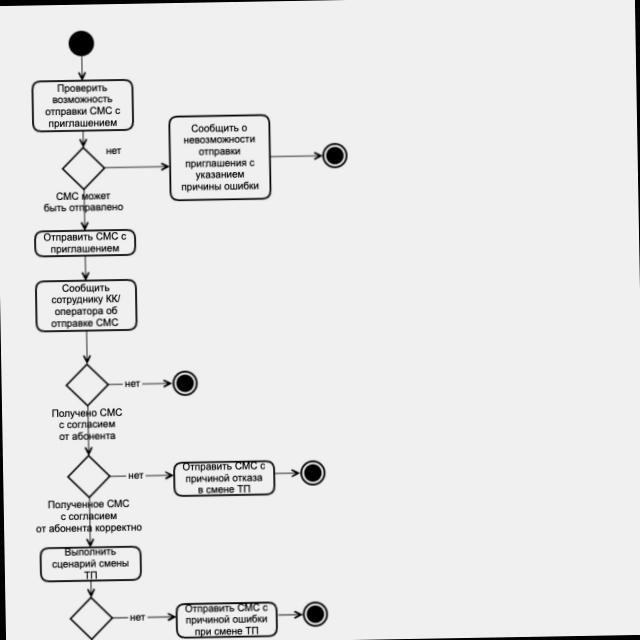arrow: (106, 163, 169, 170), (272, 153, 322, 160), (147, 613, 175, 621), (83, 332, 90, 363), (143, 380, 171, 387), (145, 472, 172, 479), (82, 199, 88, 229), (275, 470, 299, 477), (279, 611, 302, 618), (79, 57, 85, 80), (83, 257, 89, 280), (87, 529, 93, 546), (88, 582, 94, 597), (87, 434, 91, 456), (80, 132, 86, 146), (86, 448, 92, 455)
circle: (300, 461, 325, 485), (70, 32, 94, 56), (323, 144, 347, 168), (303, 603, 328, 626), (173, 372, 197, 395)
diamond: (68, 456, 110, 498), (63, 148, 104, 190), (71, 598, 113, 639), (67, 365, 108, 406)
rectangle: (169, 115, 271, 200), (35, 279, 137, 331), (32, 79, 133, 131), (176, 602, 278, 638), (40, 546, 141, 582), (174, 461, 274, 497), (35, 229, 135, 257)
text_region: (32, 494, 145, 536), (46, 404, 126, 444), (36, 189, 127, 214), (123, 375, 140, 393), (124, 467, 144, 481), (130, 610, 144, 624), (106, 144, 121, 156)
